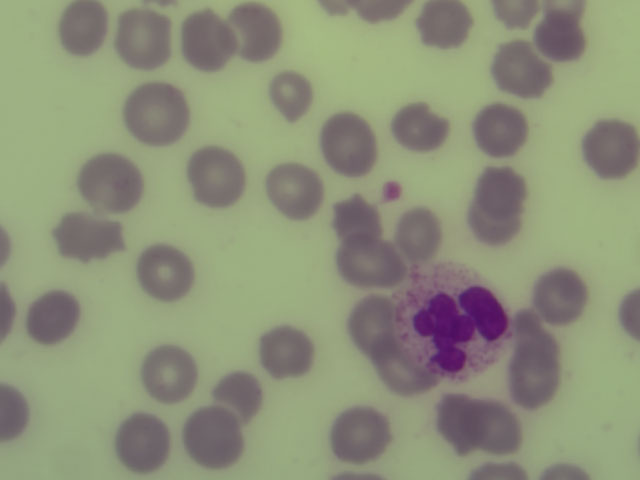Platelets: (377, 182, 401, 201)
RBC: (182, 399, 245, 467), (126, 79, 191, 143), (80, 149, 146, 212), (575, 116, 640, 179), (317, 111, 377, 175), (187, 146, 247, 206), (117, 7, 177, 67), (180, 9, 237, 70), (141, 343, 199, 401), (226, 1, 283, 59), (137, 246, 196, 301), (340, 234, 399, 289), (470, 175, 529, 230), (503, 346, 562, 401), (472, 395, 531, 450), (431, 392, 490, 447), (344, 296, 403, 351), (330, 404, 389, 459), (212, 360, 271, 415), (115, 410, 174, 465), (54, 208, 113, 263), (258, 325, 317, 380), (533, 267, 592, 322), (470, 101, 529, 156), (388, 103, 447, 158), (265, 161, 324, 216), (26, 289, 85, 344), (260, 70, 319, 125), (328, 191, 387, 246), (537, 1, 596, 56), (487, 41, 546, 96), (55, 1, 114, 54), (413, 1, 472, 54), (397, 206, 454, 250), (1, 380, 33, 438), (354, 1, 408, 29), (542, 456, 594, 480), (473, 456, 525, 480), (612, 291, 640, 335), (494, 1, 539, 27), (1, 284, 19, 337), (1, 214, 19, 264), (311, 1, 358, 16), (338, 467, 382, 480)
WBC: (393, 264, 511, 381)
